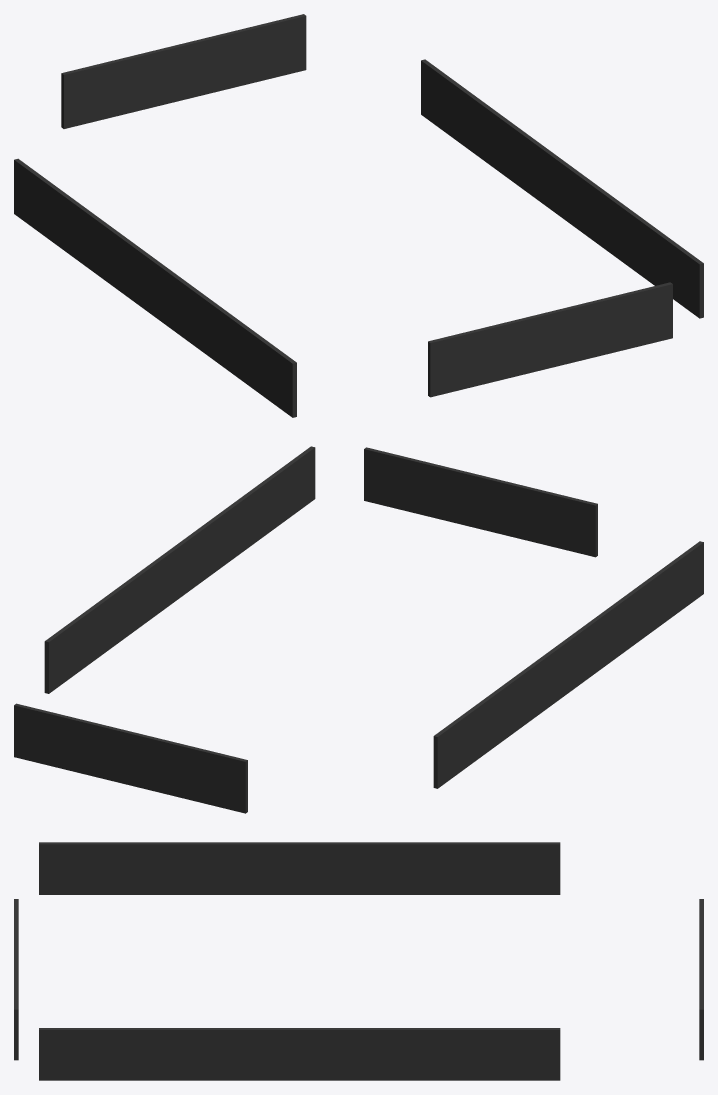
File: ventanas.obj
3 renders of one model, top to bottom at view 1: azimuth 30°, elevation 25°; view 2: azimuth 150°, elevation 25°; view 3: azimuth 270°, elevation 25°, orthographic. The views are drawn at different scales.
Parts seen in each view (by area): view 1: pasted__polySurface148 polySurface121, pasted__polySurface148 polySurface90, pasted__polySurface148 polySurface89, polySurface126 pasted__polySurface148; view 2: pasted__polySurface148 polySurface90, pasted__polySurface148 polySurface121, polySurface126 pasted__polySurface148, pasted__polySurface148 polySurface89; view 3: pasted__polySurface148 polySurface121, pasted__polySurface148 polySurface90, polySurface126 pasted__polySurface148, pasted__polySurface148 polySurface89.
Boxes of the visible parts, x1,y1,x2,y2 form: pasted__polySurface148 polySurface121: [14, 158, 296, 417]; pasted__polySurface148 polySurface90: [421, 59, 703, 318]; pasted__polySurface148 polySurface89: [61, 14, 306, 128]; polySurface126 pasted__polySurface148: [428, 282, 672, 397]; pasted__polySurface148 polySurface90: [44, 446, 315, 693]; pasted__polySurface148 polySurface121: [433, 541, 703, 788]; polySurface126 pasted__polySurface148: [364, 447, 597, 557]; pasted__polySurface148 polySurface89: [14, 703, 247, 813]; pasted__polySurface148 polySurface121: [39, 842, 560, 894]; pasted__polySurface148 polySurface90: [39, 1028, 560, 1080]; polySurface126 pasted__polySurface148: [14, 899, 18, 1060]; pasted__polySurface148 polySurface89: [699, 899, 703, 1060].
Bounding box in the file's own units: 10.03 × 1.26 × 15.58.
1 material, 1 textured.
